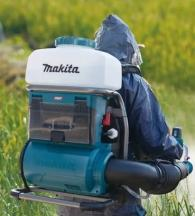PULVERISATEUR: (11, 3, 195, 216)
